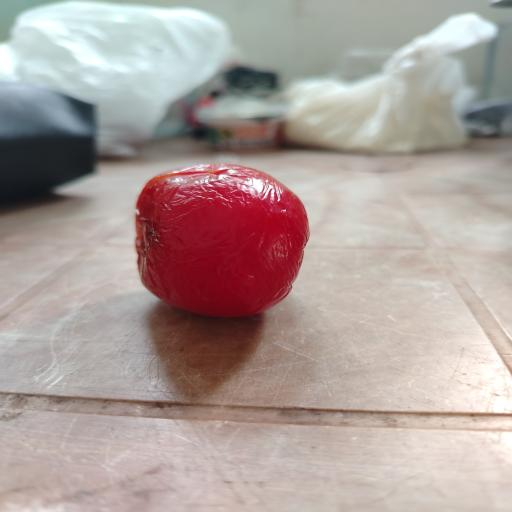spoiled: (136, 164, 309, 317)
